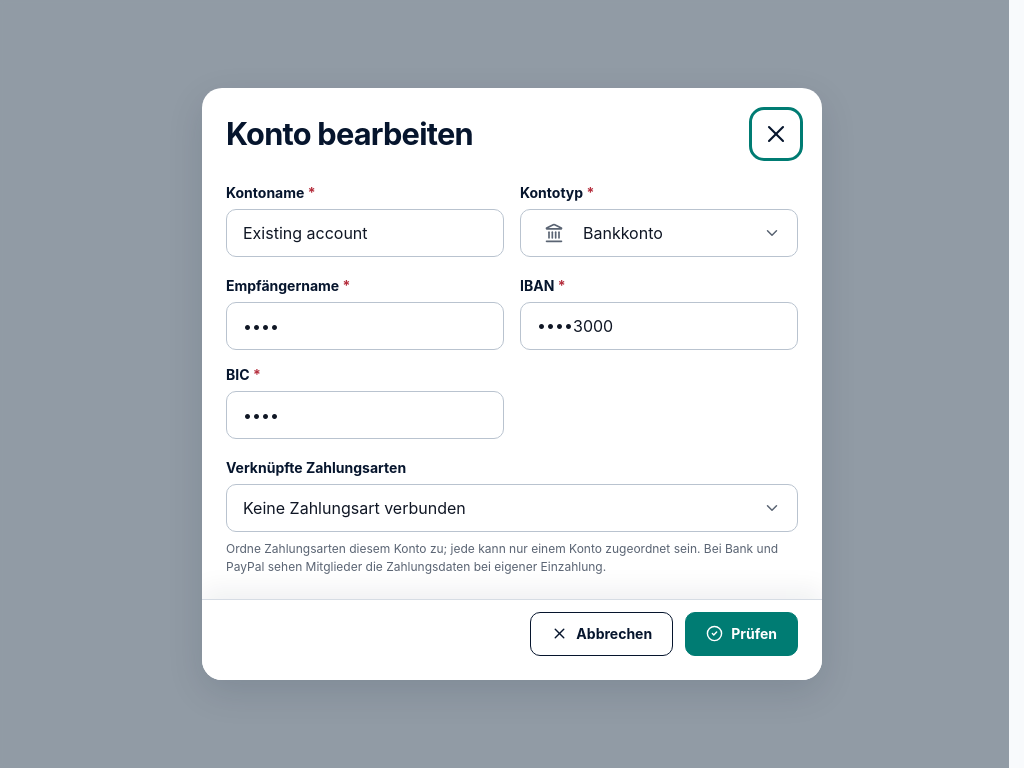
Test case: ExternalAccountDialog › accepts unchanged masked bank fields for a name-only edit
The width and height of the screenshot is (1024, 768).
Replace the text in the field labelled "Kontoname *" with "Renamed bank": (365, 233) [226,209,504,257]
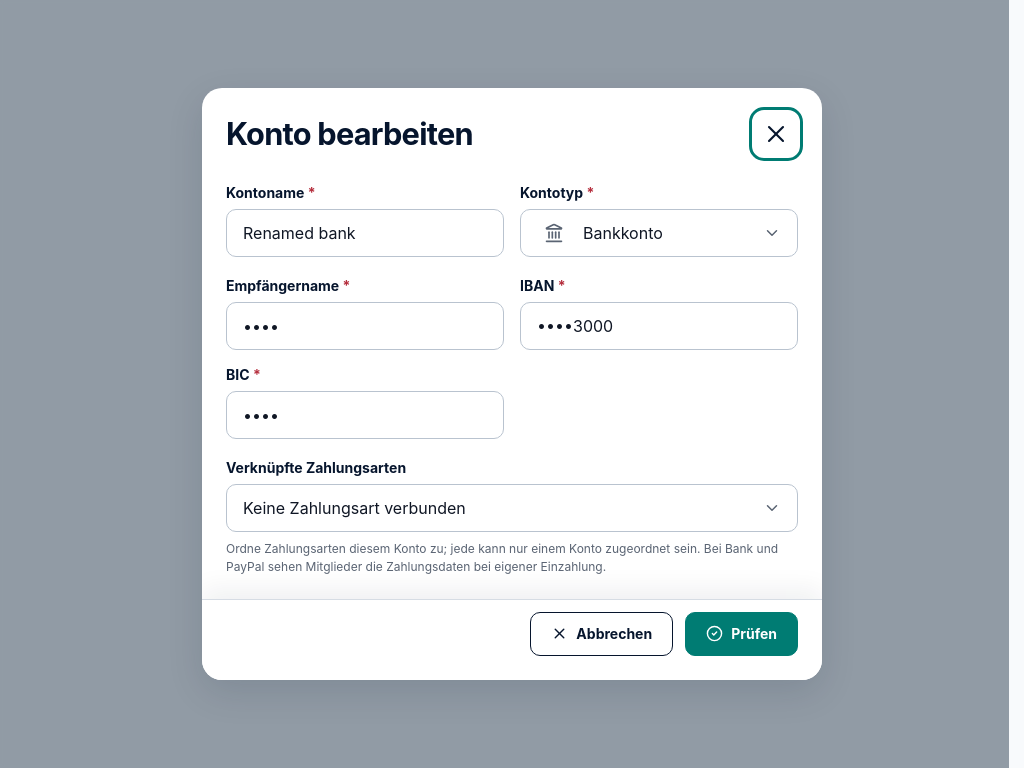
Click the button "Prüfen": (742, 634) [685,612,798,656]
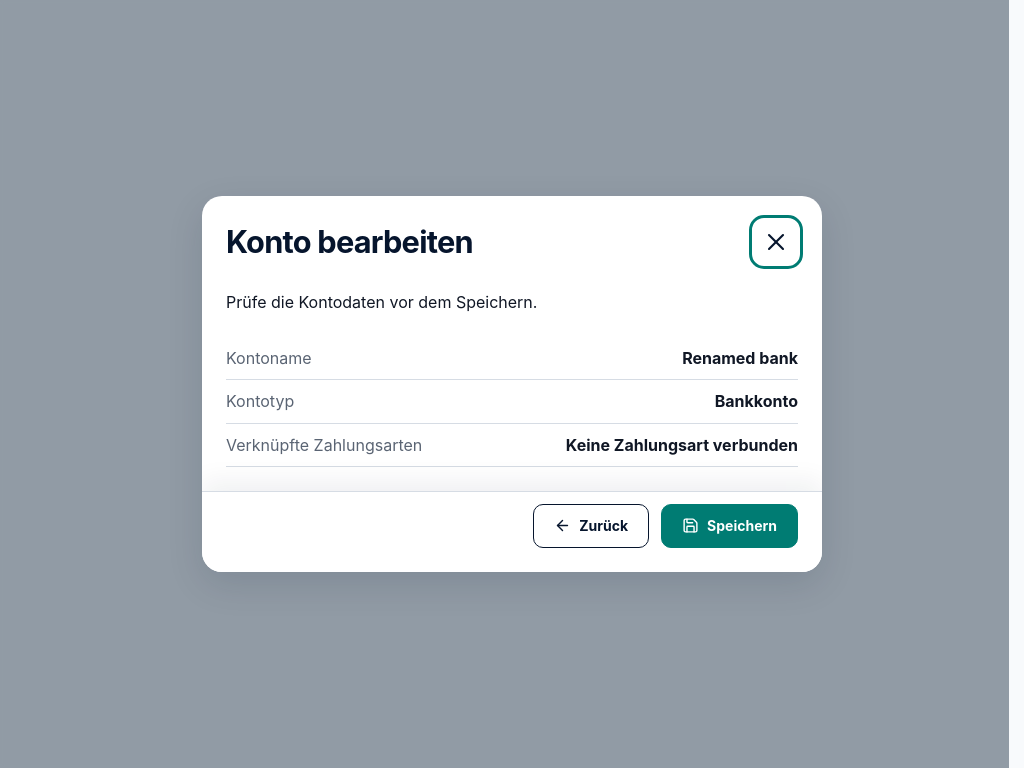
Expected: the text "Prüfe die Kontodaten vor dem Speichern." is shown, [226,292,537,312]
